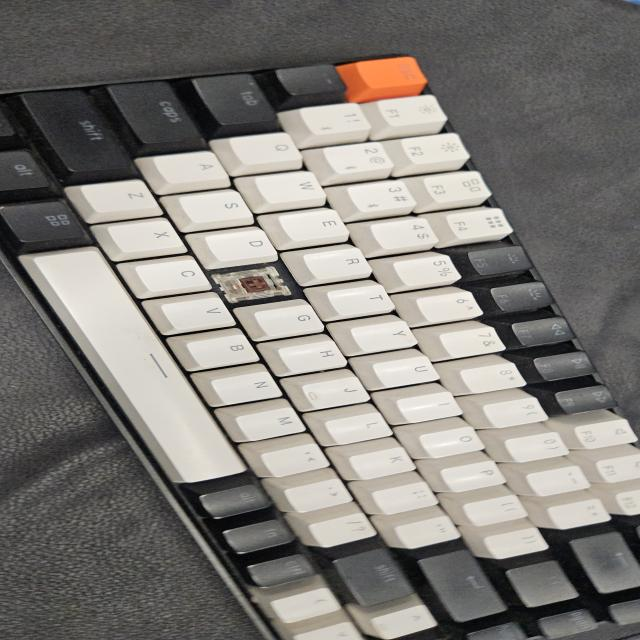C: (230, 272, 290, 299)
